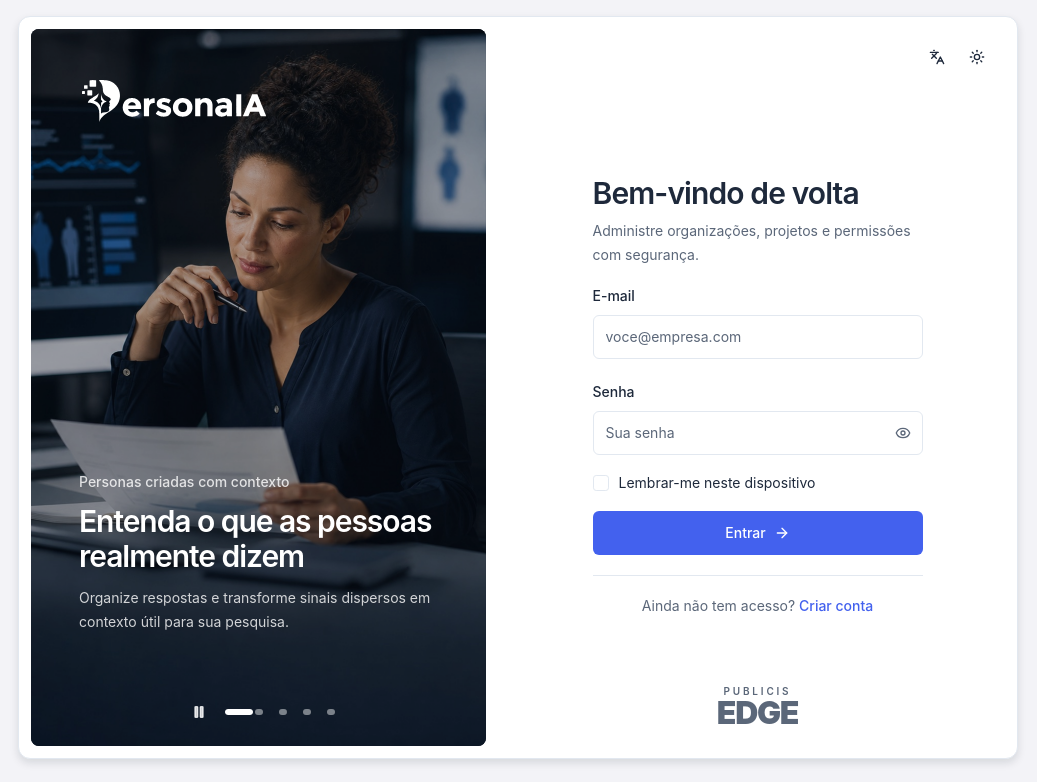
Test: LoginPage › shows and hides the password without changing its value
Type "MinhaSenha!2026" into the password field labelled "Senha" at (758, 432), box [592,410,922,454]
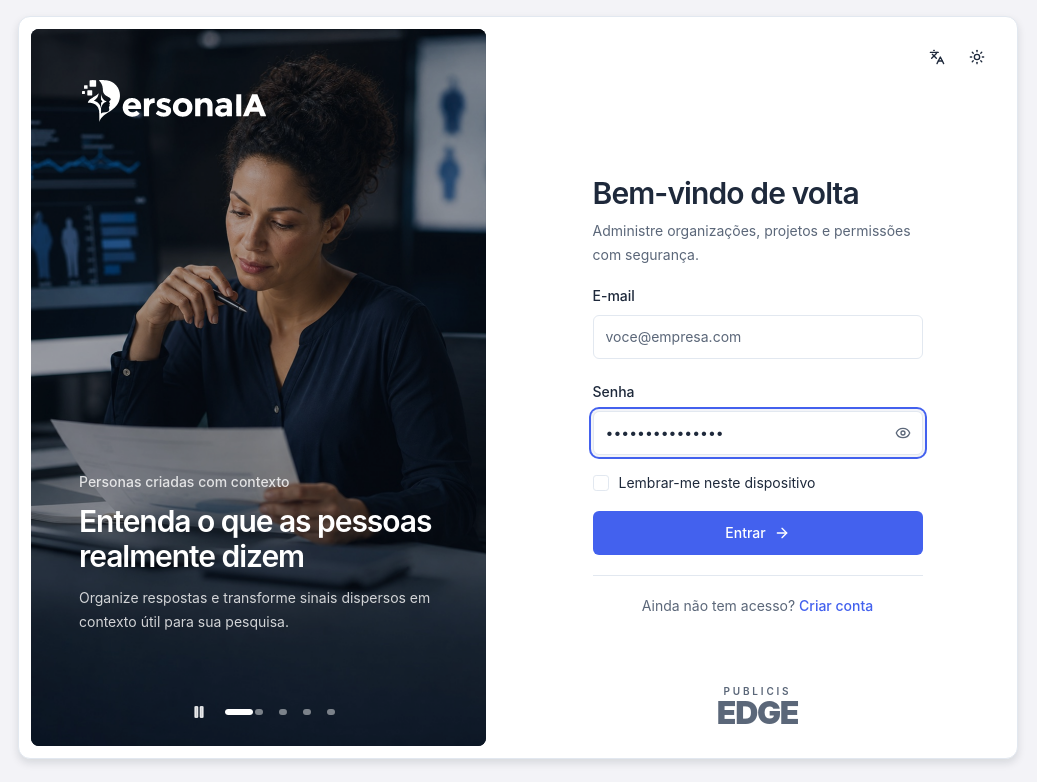
Click the button named "Mostrar senha" at (902, 432), box [882,410,922,454]
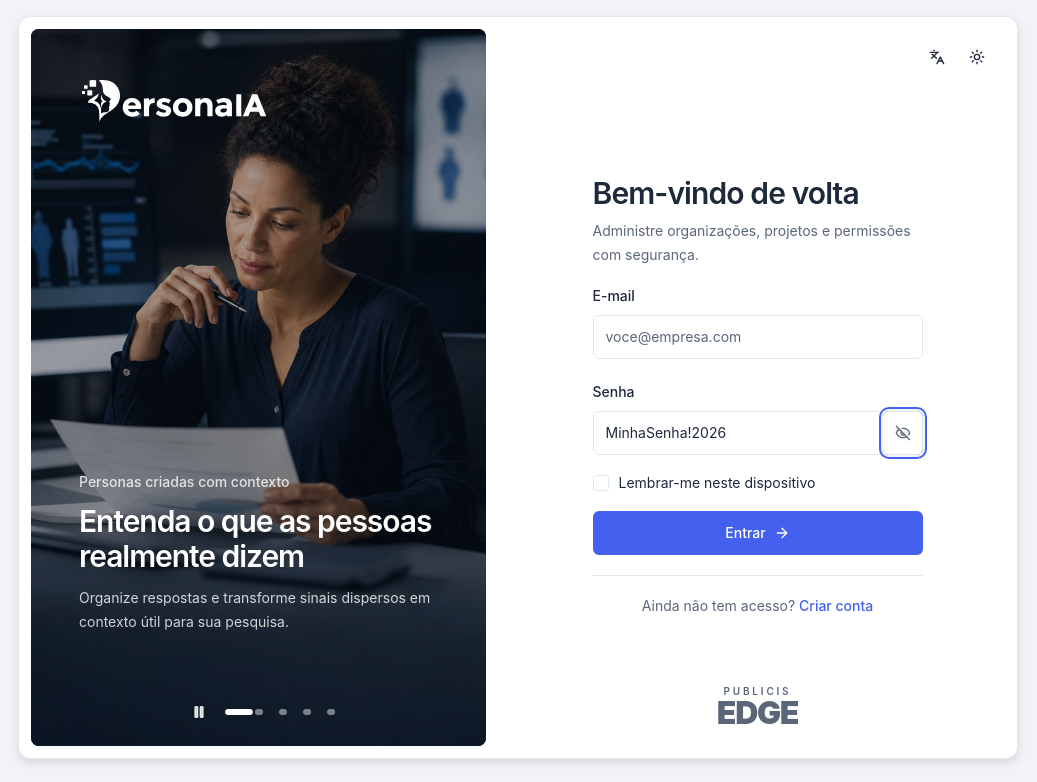
Expected: the field labelled "Senha" shows its text, [592,410,922,454]
Click the button named "Ocultar senha" at (902, 432), box [882,410,922,454]
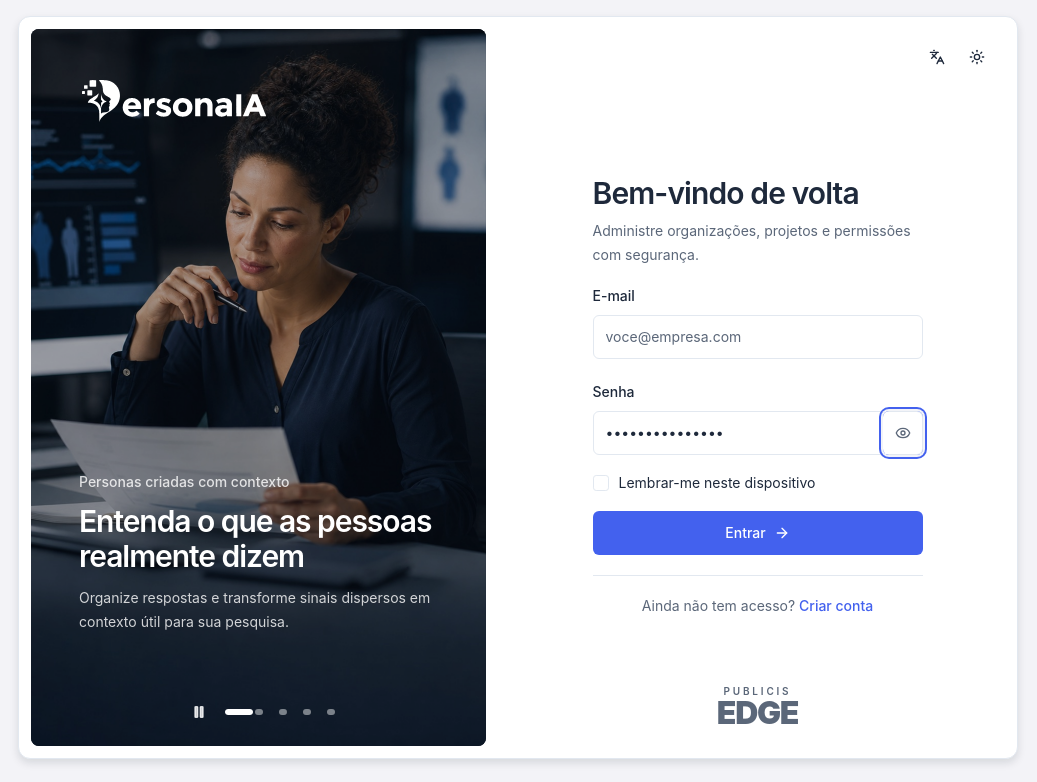
Expected: the password field labelled "Senha" hides its text, [592,410,922,454]
